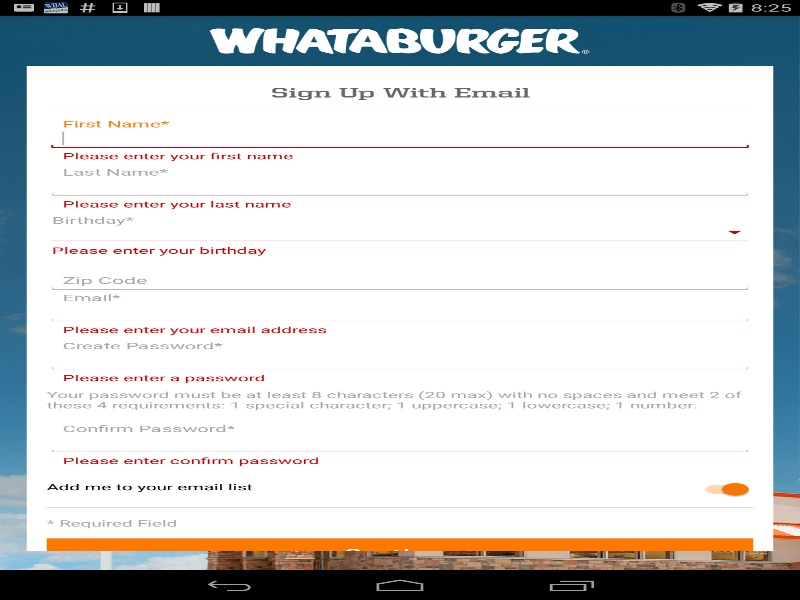Button: (46, 538, 753, 568)
Input: (46, 127, 753, 150), (46, 175, 753, 198), (46, 269, 753, 292), (46, 300, 753, 323), (46, 431, 753, 454), (46, 349, 753, 371), (46, 223, 753, 244)
